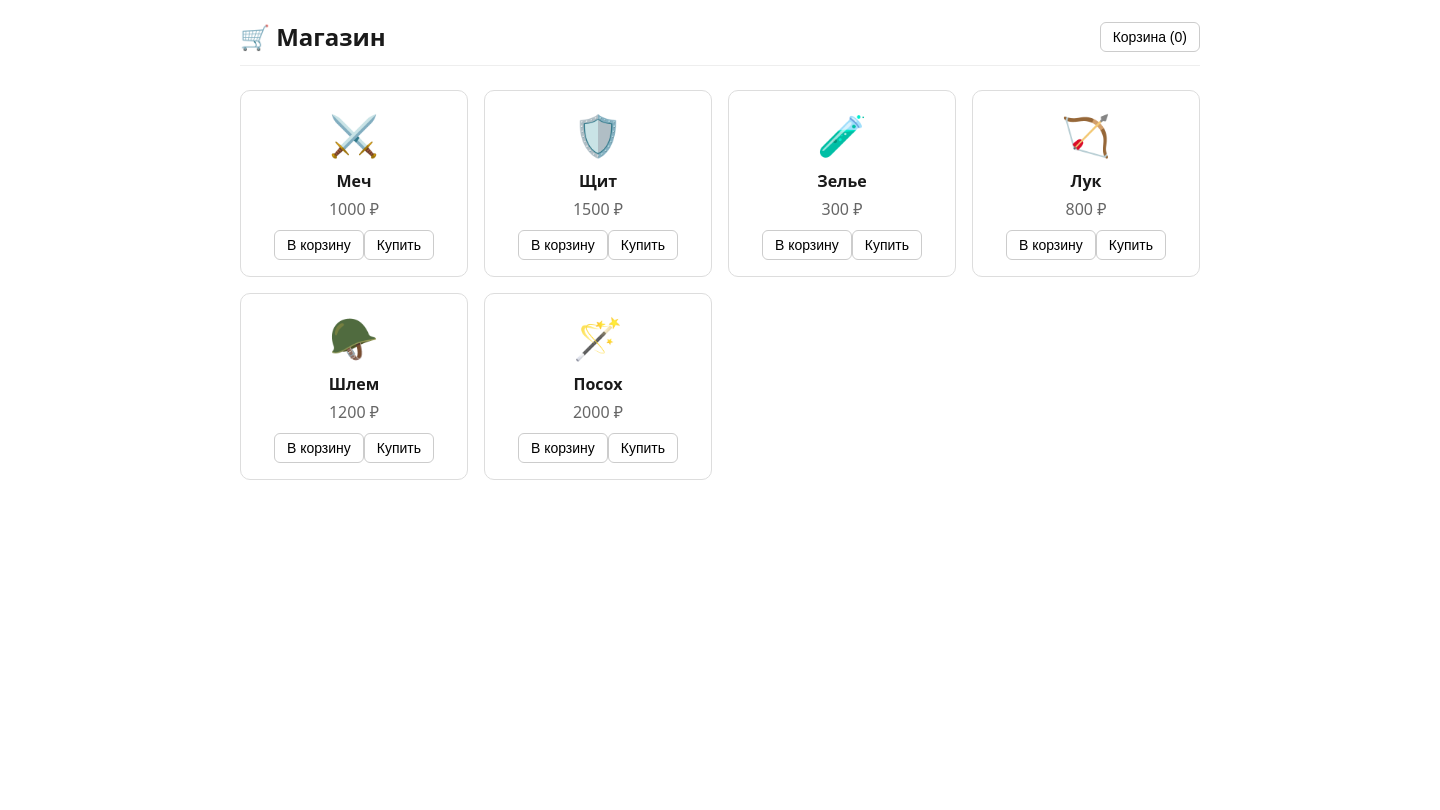
App — витрина и корзина › открывает корзину и показывает итог
Click the button "В корзину" below "1000" at (319, 245), box [274,230,364,260]
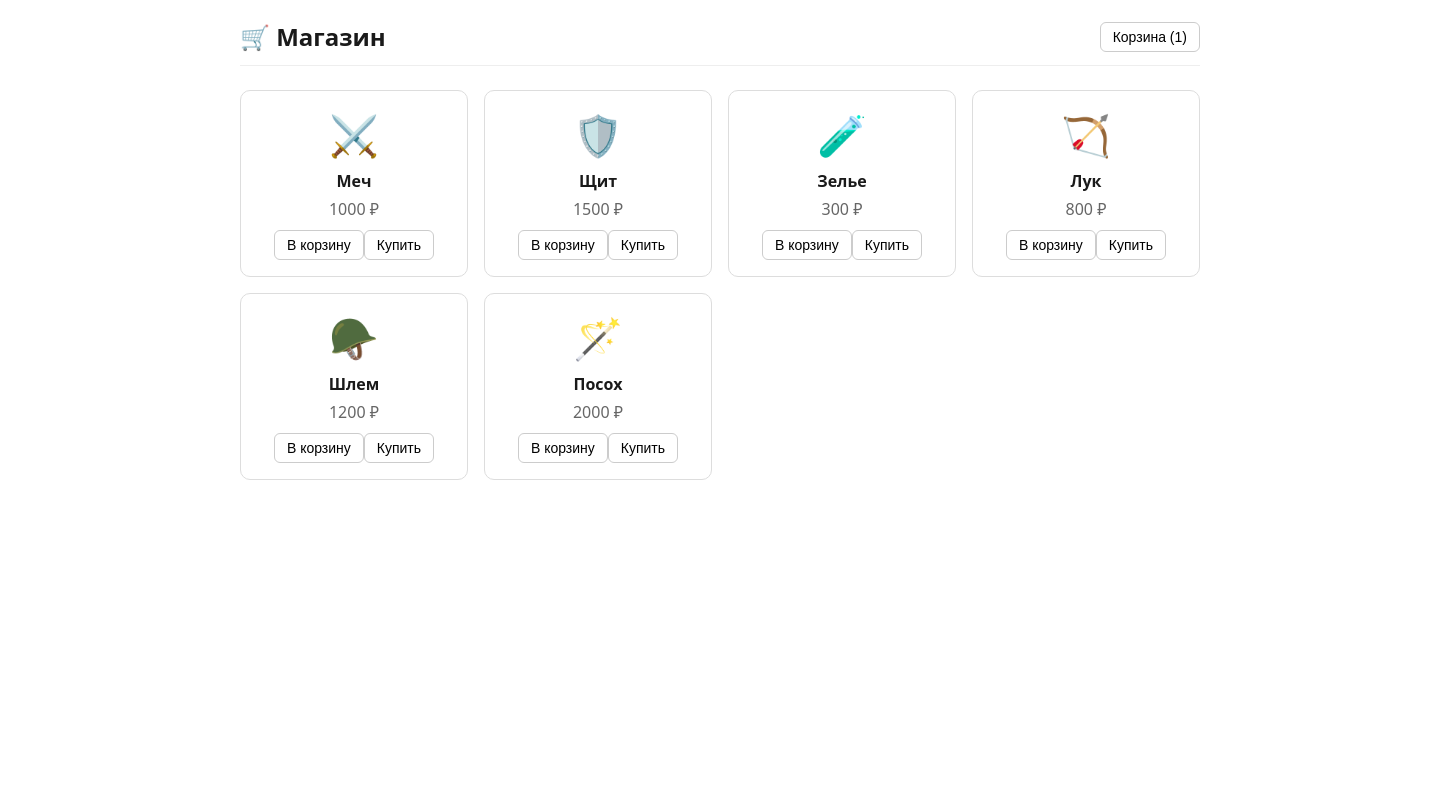
Click the button "Корзина (1)" at (1150, 36), box [1100,22,1200,52]
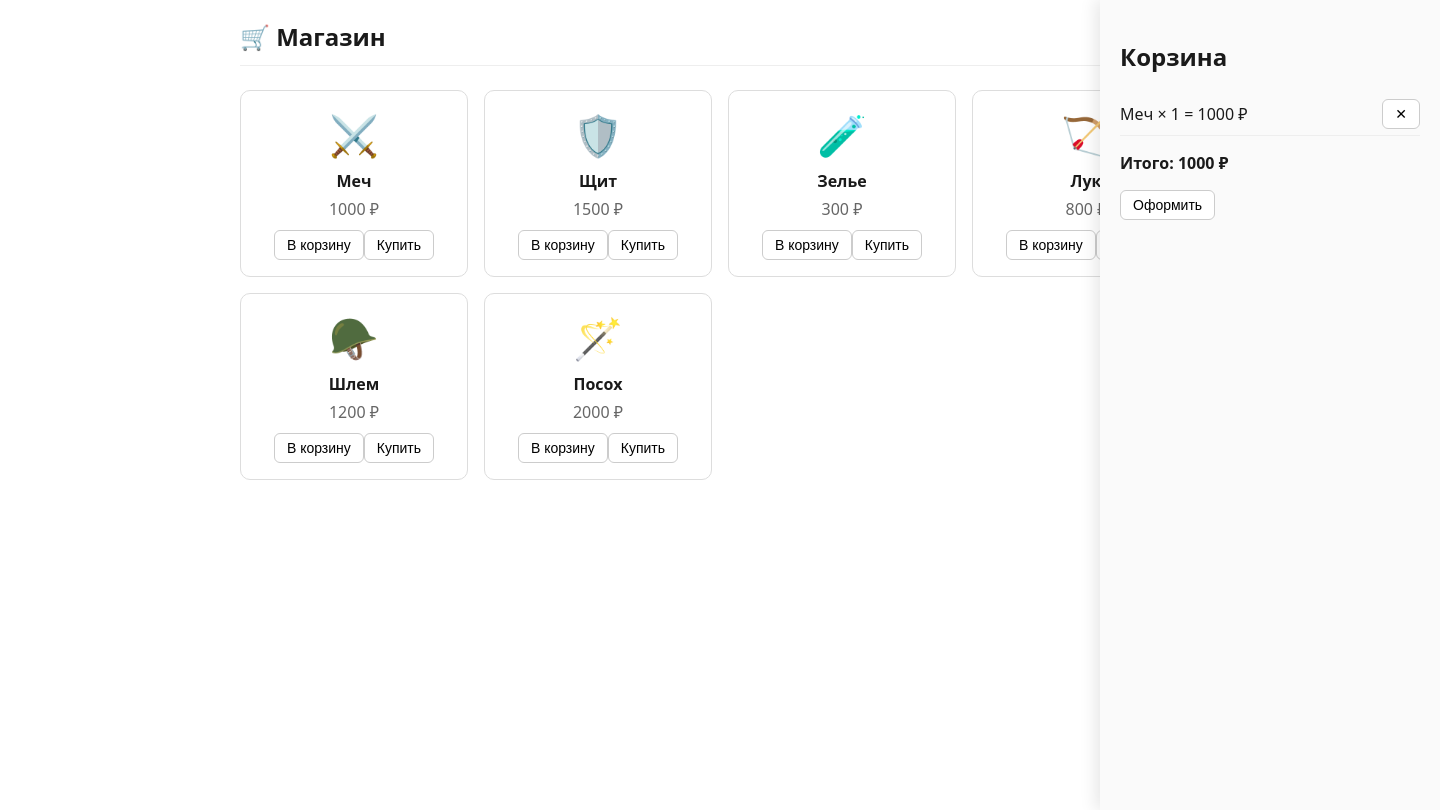
Check: the text "Итого: 1000 ₽" is shown, box [1120,152,1228,174]
